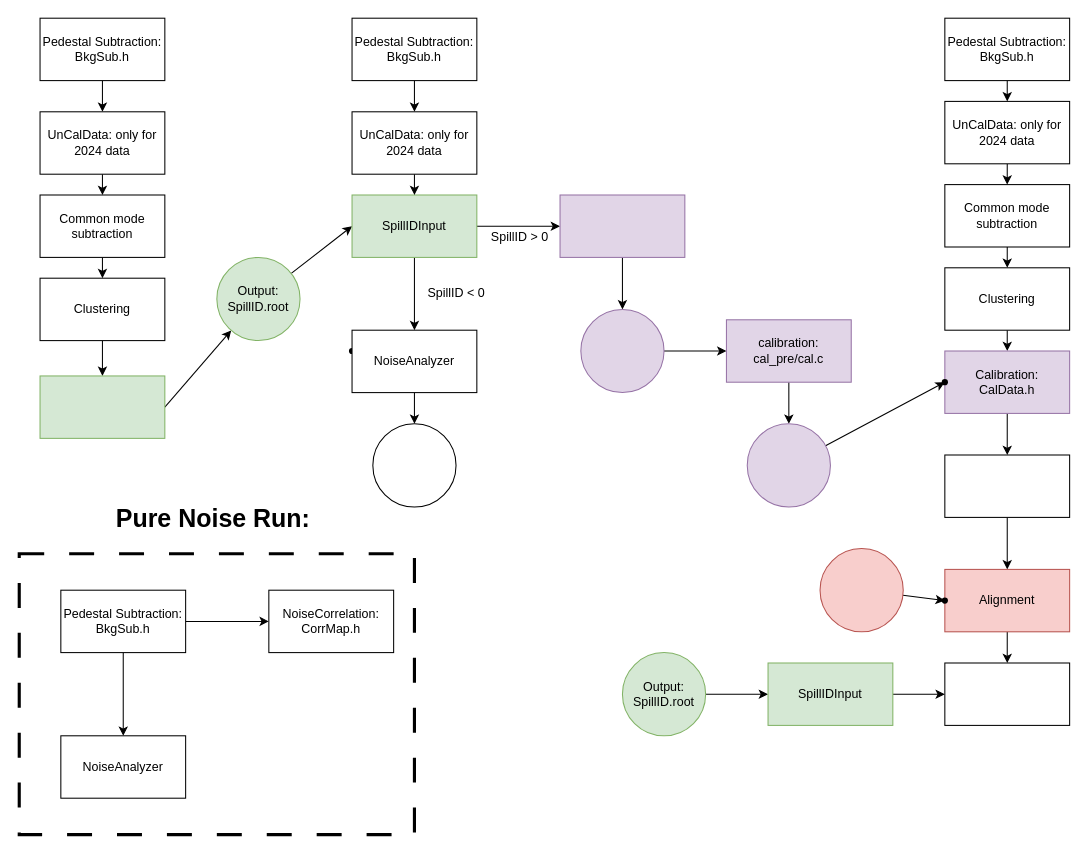
This 1088x854 diagram has some shape labels left out. Each missing label, with the centre of its shape:
"Algo(RMS)" goes at [1007,485].
"Alignment parameters" goes at [861,590].
"Output: cal.root" goes at [788,465].
"Output: Noise.root" goes at [414,465].
"Output: SumID.root" goes at [622,350].
"Resolution Study" goes at [1007,693].
"SpillIDAssigner" goes at [102,406].
"Sum1D" goes at [622,225].
